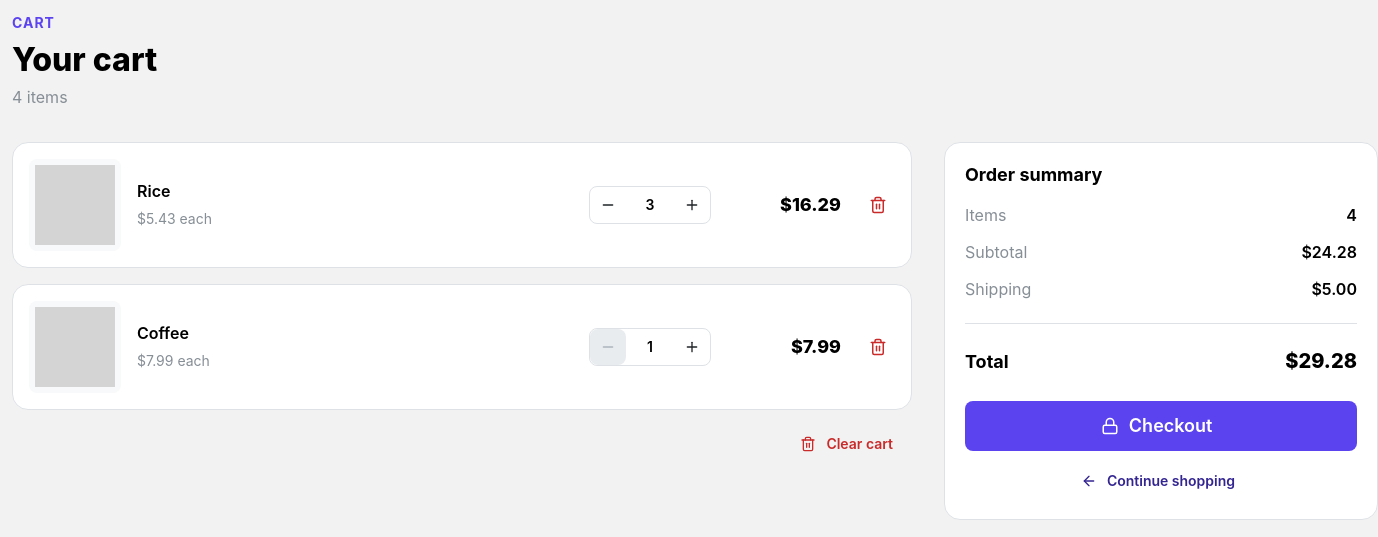
Test: Cart page › removes a single item
The image size is (1378, 537).
What coordinates should you click on to do the following:
click the button named "Remove Coffee from cart"
I would click on:
 (878, 347)
Its box is [861,330,895,364].
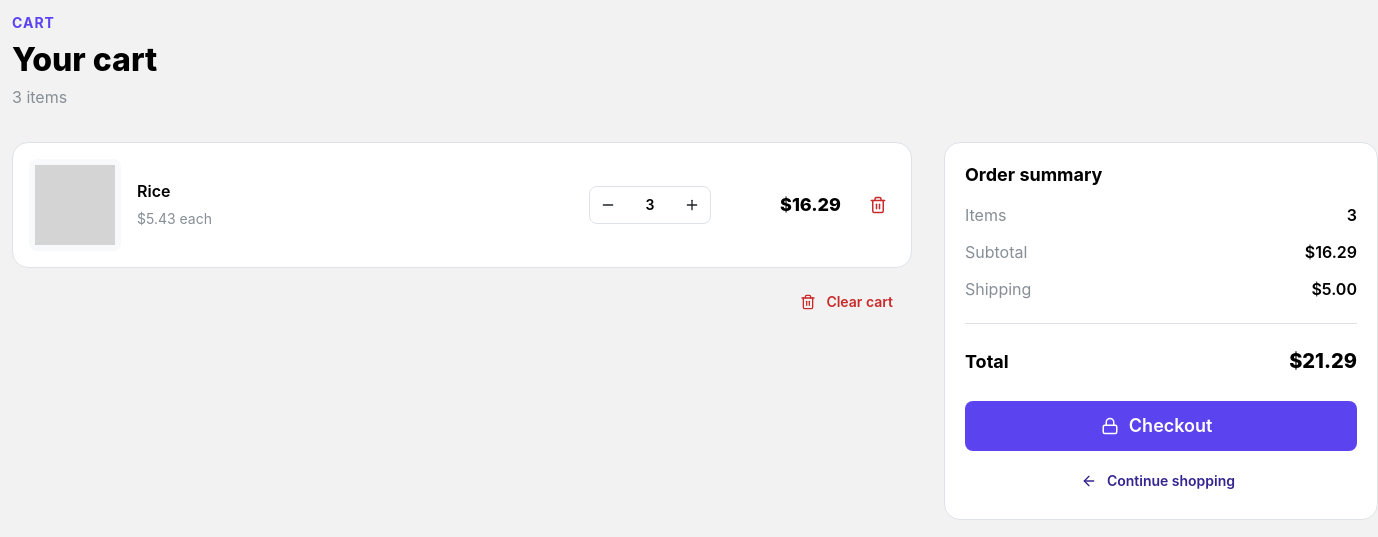
Check: the link "Coffee" is gone
